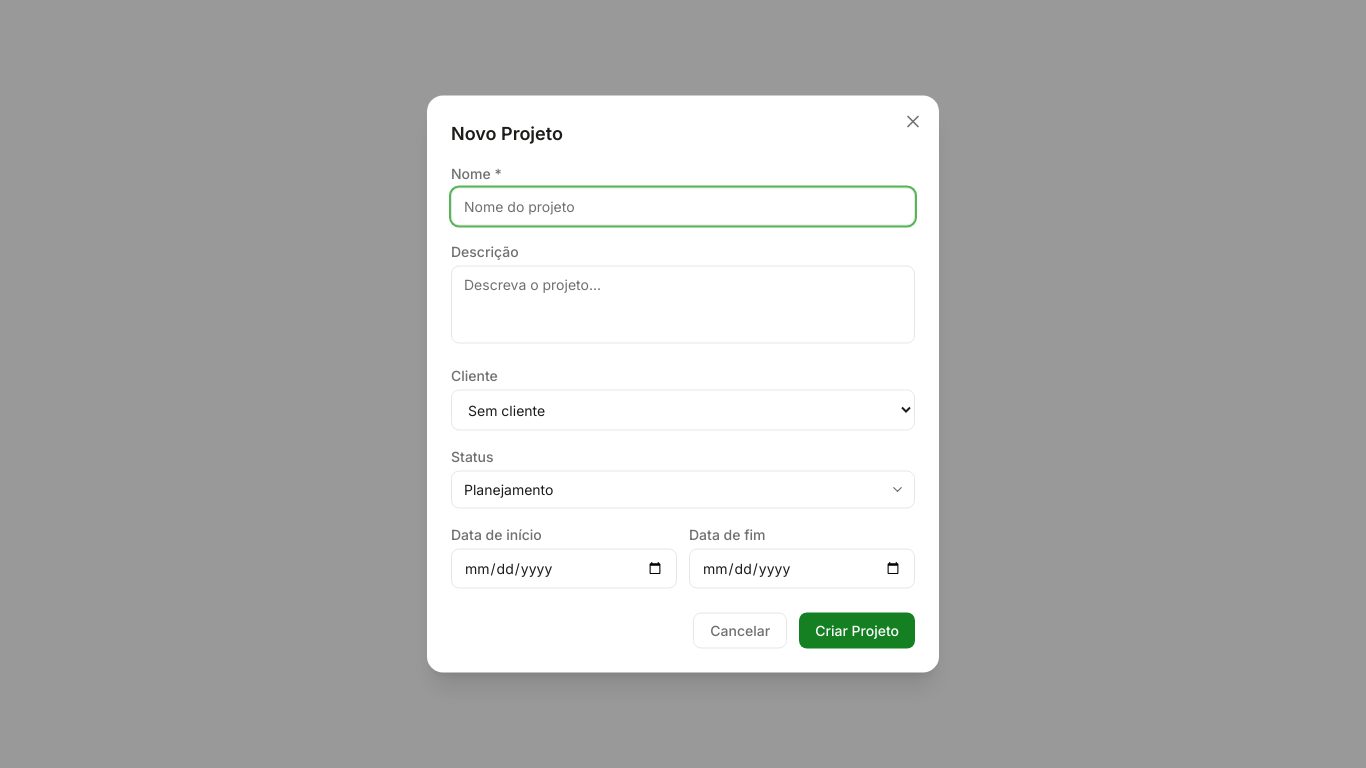
it: ProjectDialog › should require the project name
The width and height of the screenshot is (1366, 768).
What coordinates should you click on to do the following:
click the button "Criar Projeto"
I would click on:
 (857, 630)
Its box is x1=799 y1=612 x2=915 y2=648.
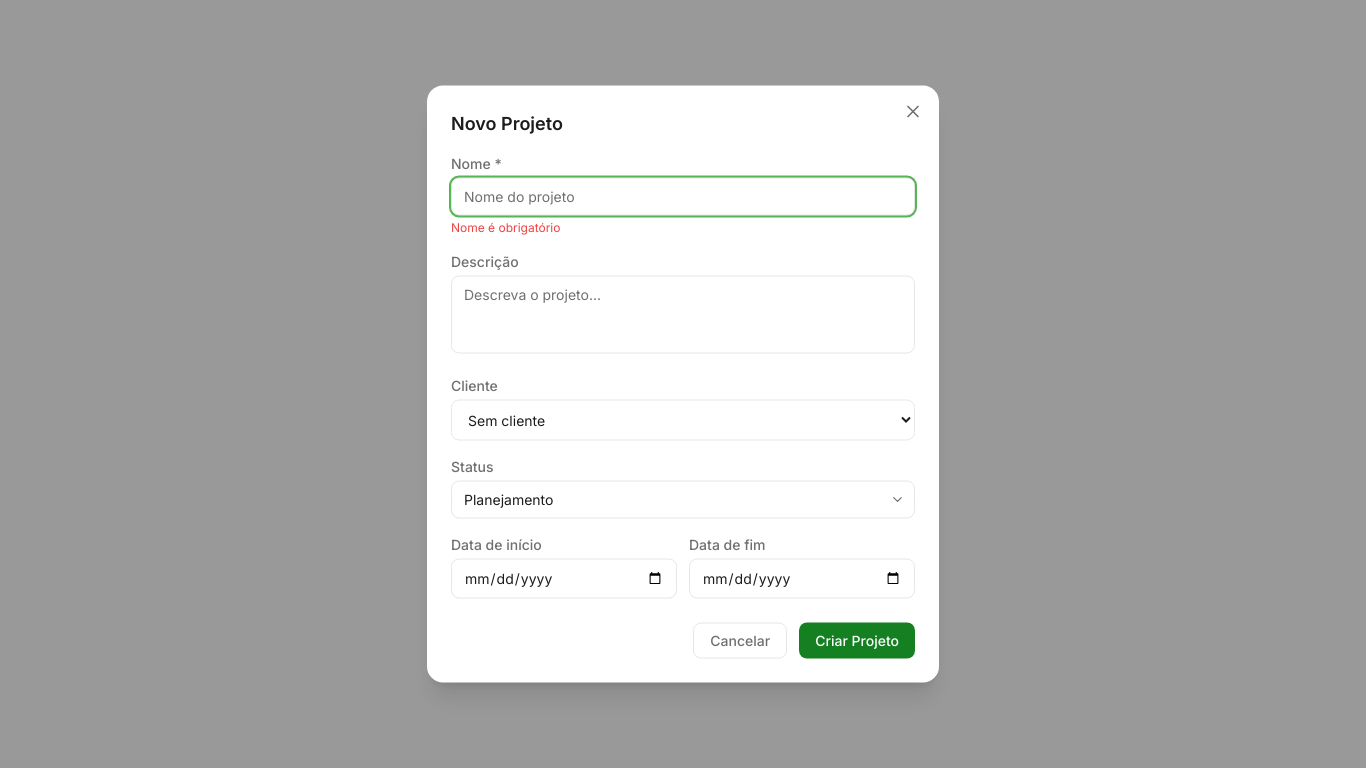
expect the text "Nome é obrigatório" is shown: met, box x1=451 y1=220 x2=560 y2=234
